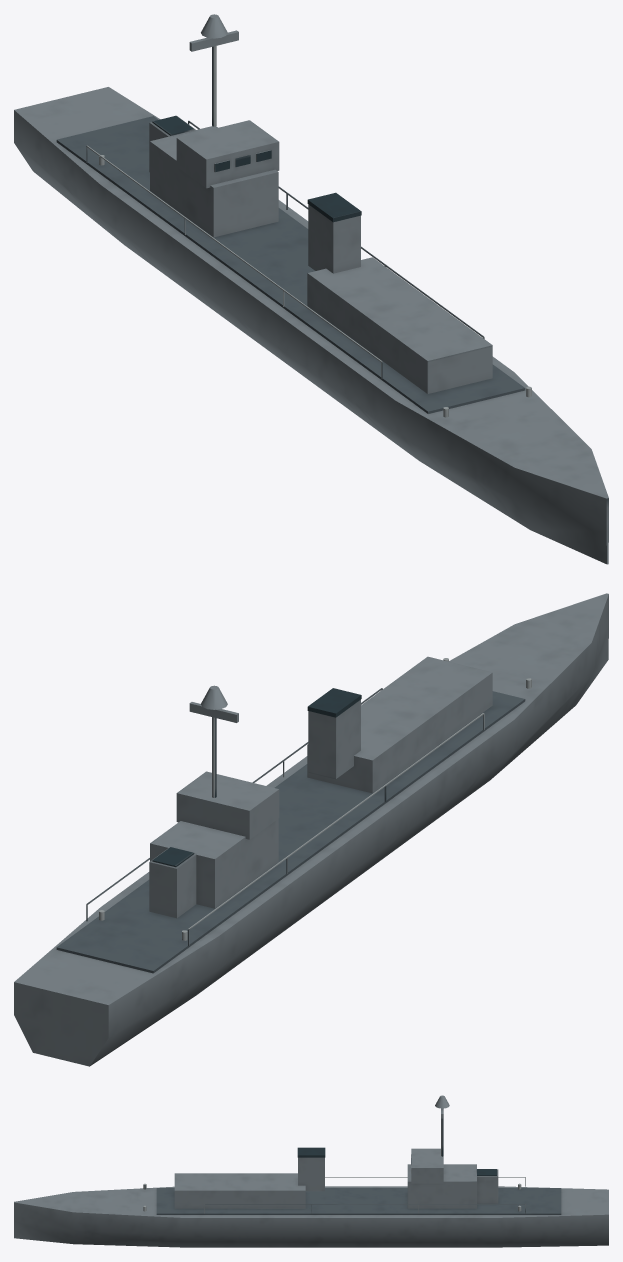
The model's file is naval-frigate.fbx.
3 renders of one model, top to bottom at view 1: azimuth 30°, elevation 25°; view 2: azimuth 150°, elevation 25°; view 3: azimuth 270°, elevation 25°, orthographic. The views are drawn at different scales.
Parts seen in each view (by area): view 1: naval-frigate; view 2: naval-frigate; view 3: naval-frigate.
Boxes of the visible parts, x1=… form: naval-frigate: x1=14, y1=14, x2=608, y2=564; naval-frigate: x1=14, y1=593, x2=608, y2=1066; naval-frigate: x1=14, y1=1095, x2=608, y2=1247.
Size of the model in its own units: 30 by 63 by 240.
Materials: 1 (1 with a texture image).
